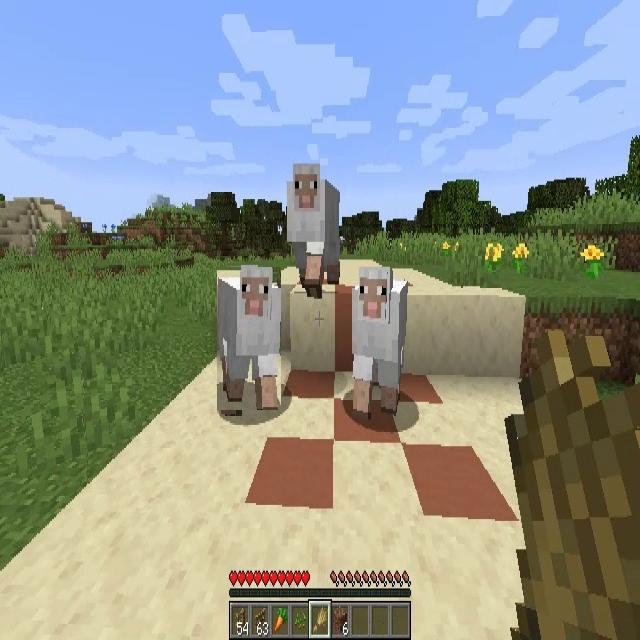flower: (580, 243, 604, 280), (513, 241, 529, 275), (486, 241, 502, 272)
sheep: (218, 267, 282, 410), (349, 269, 408, 416), (289, 163, 340, 291)
